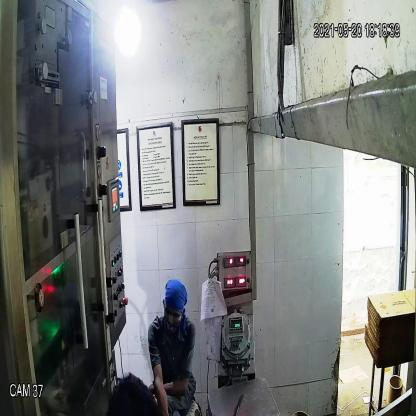goggles: (161, 302, 185, 326)
